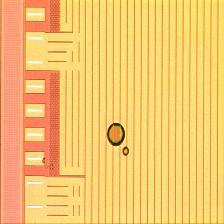PARTICLE: (107, 124, 131, 157)
